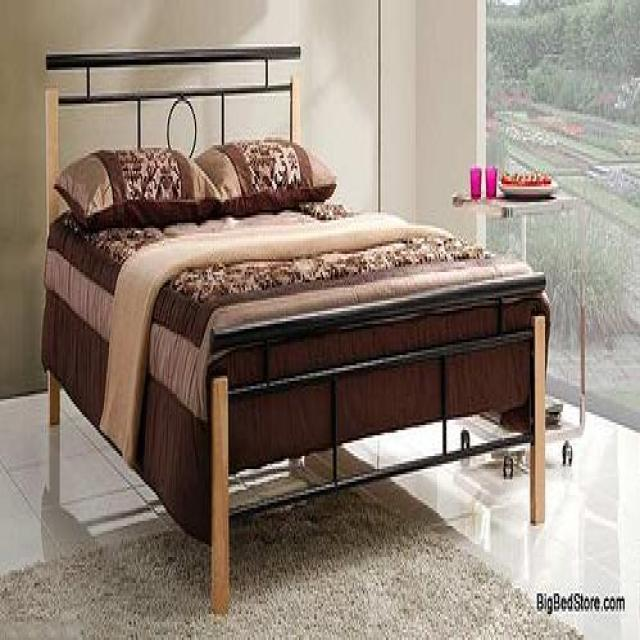bed: (40, 44, 551, 614)
table: (450, 187, 588, 474)
